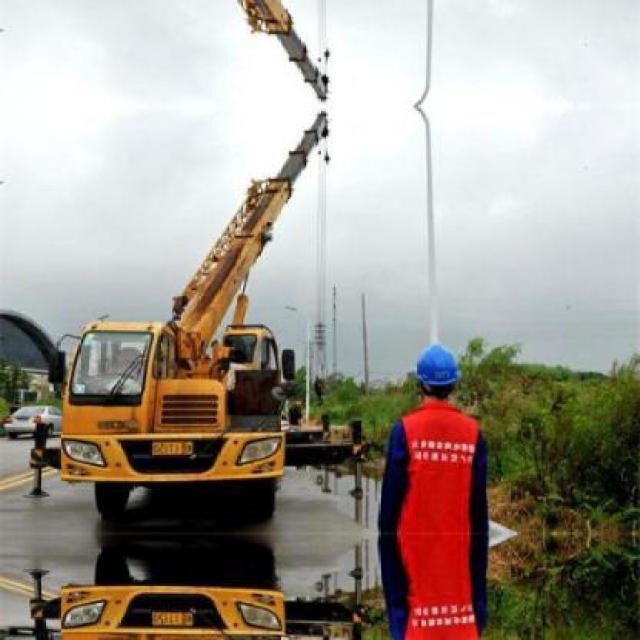Reflective-Jacket: (382, 404, 491, 541)
Safety-Helmet: (403, 339, 468, 398)
